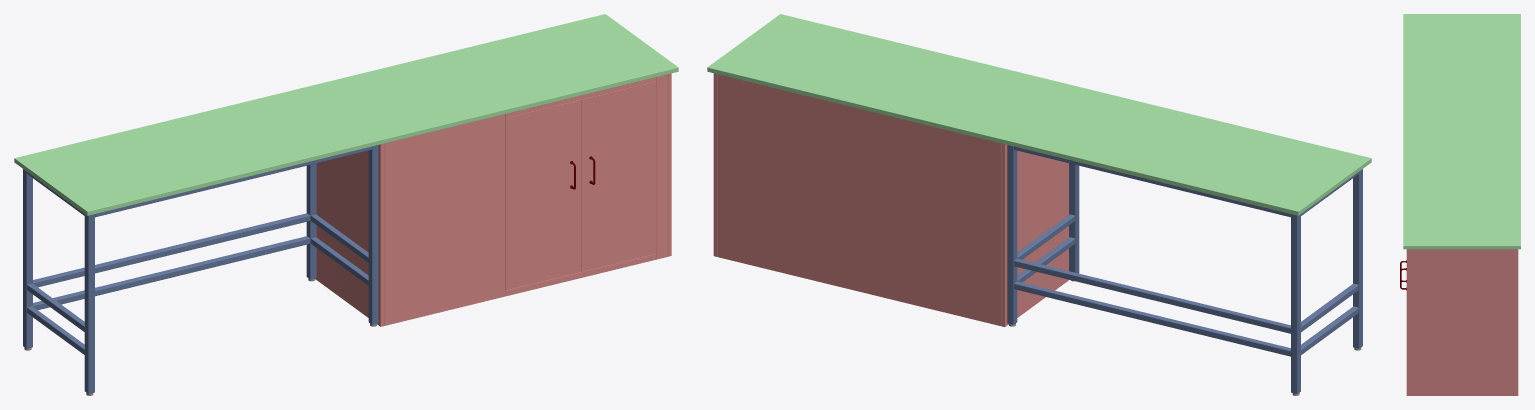
The model's file is HP_LabTable_02.fbx.
3 renders of one model, left to right at view 1: azimuth 30°, elevation 25°; view 2: azimuth 150°, elevation 25°; view 3: azimuth 270°, elevation 25°, orthographic. The views are drawn at different scales.
Visible parts, largest first — view 1: polySurface260; view 2: polySurface260; view 3: polySurface260.
Part boxes in pixels (x1,y1,x2,y2): polySurface260: (14,14,678,395); polySurface260: (707,14,1371,395); polySurface260: (1400,14,1520,395).
Bounding box in the file's own units: 295 × 90 × 64.91.
